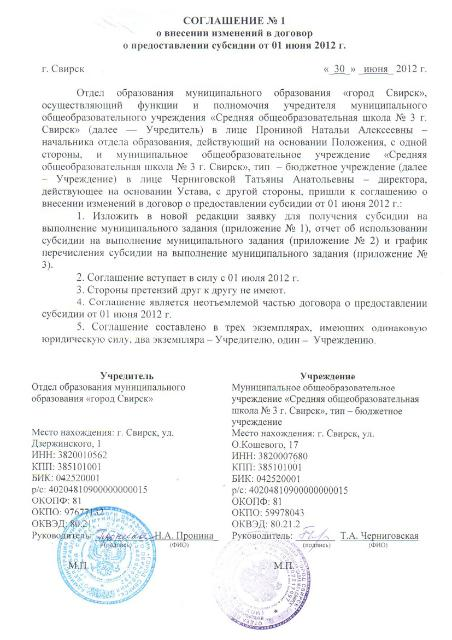stamp: (60, 506, 154, 604), (228, 544, 312, 630)
